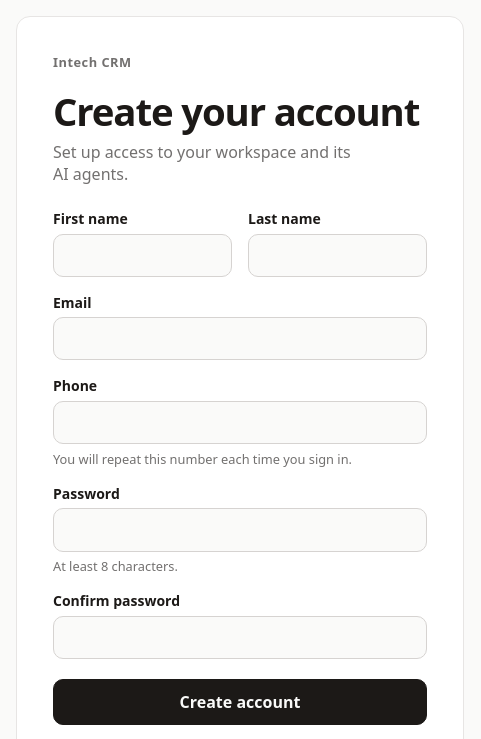
it: SignUpPage › erro global da API (409) aparece como alerta de formulário
The image size is (481, 739).
Step 1. Type "Ada" into the field labelled "First name" → point(142, 255), box [53,234,232,277]
Step 2. Type "Lovelace" into the field labelled "Last name" → point(338, 255), box [248,234,427,277]
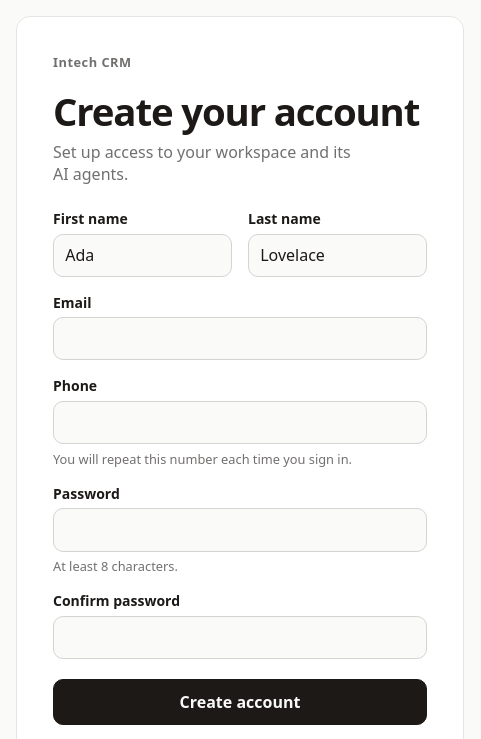
Step 3. Type "ada@example.com" into the field labelled "Email" → point(240, 339), box [53,317,427,360]
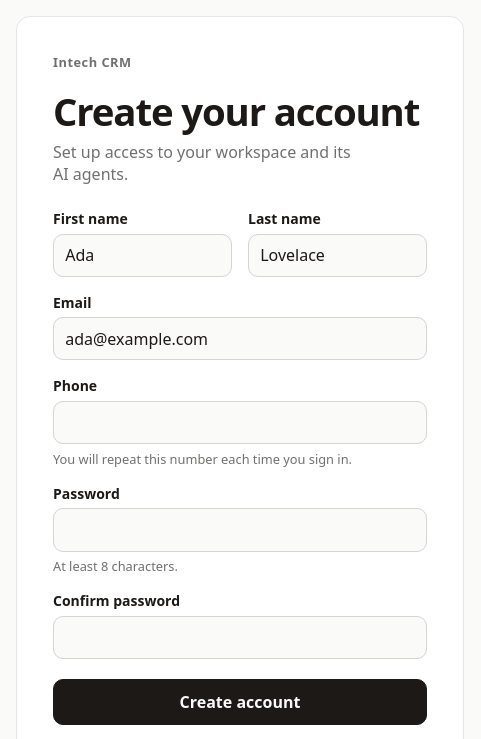
Step 4. Type "+5511988887777" into the field labelled "Phone" → point(240, 423), box [53,401,427,444]
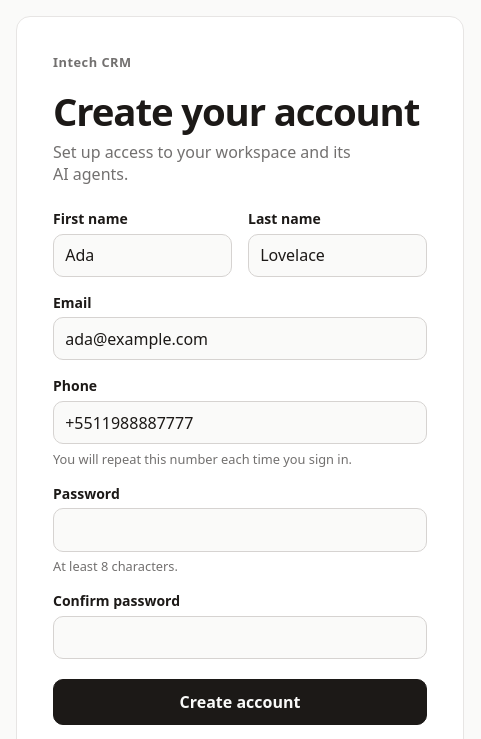
Step 5. Type "password123" into the password field labelled "Password" → point(240, 530), box [53,508,427,552]
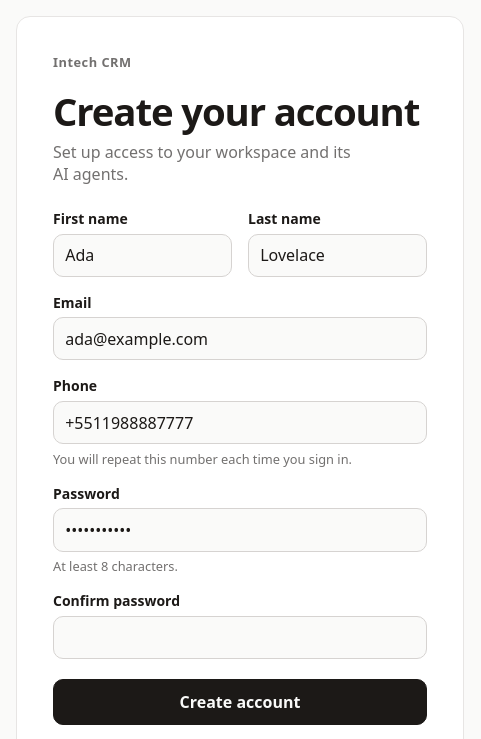
Step 6. Type "password123" into the password field labelled "Confirm password" → point(240, 637), box [53,616,427,659]
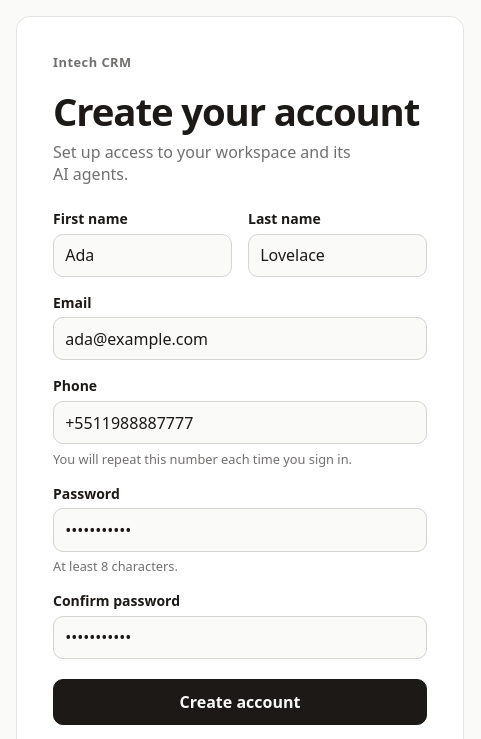
Step 7. Click the button "Create account" → point(240, 702), box [53,679,427,725]
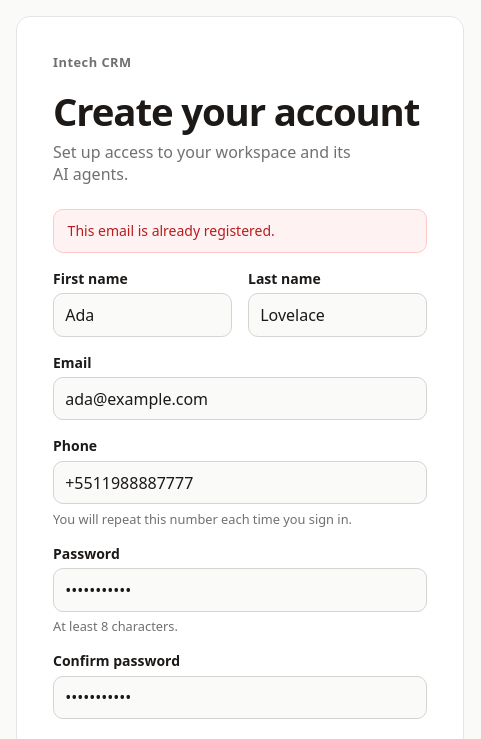
Now the message "This email is already registered." is shown, box [53,209,427,253]
